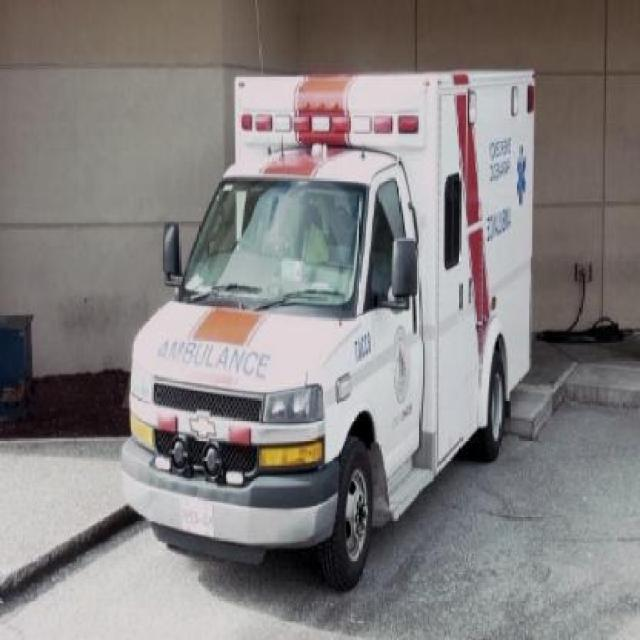emergency: (118, 65, 538, 590)
